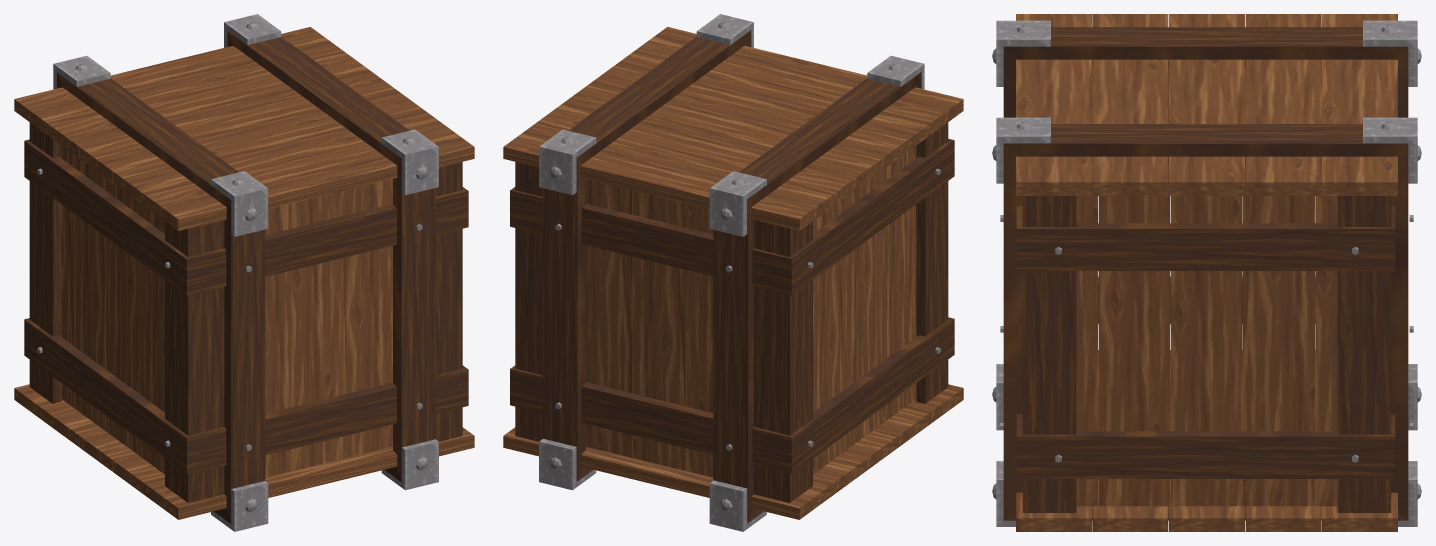
3 views of the same model, side by side, from view 1: azimuth 30°, elevation 25°; view 2: azimuth 150°, elevation 25°; view 3: azimuth 270°, elevation 25° (orthographic). The views are drawn at different scales.
Parts seen in each view (by area): view 1: source; view 2: source; view 3: source.
Part boxes in pixels (<box>): source: <box>14,14,474,531</box>; source: <box>503,14,963,531</box>; source: <box>992,14,1421,531</box>.
Size of the model in its own units: 0.8423 by 0.9325 by 0.9088.
Materials: 2 (2 with a texture image).
